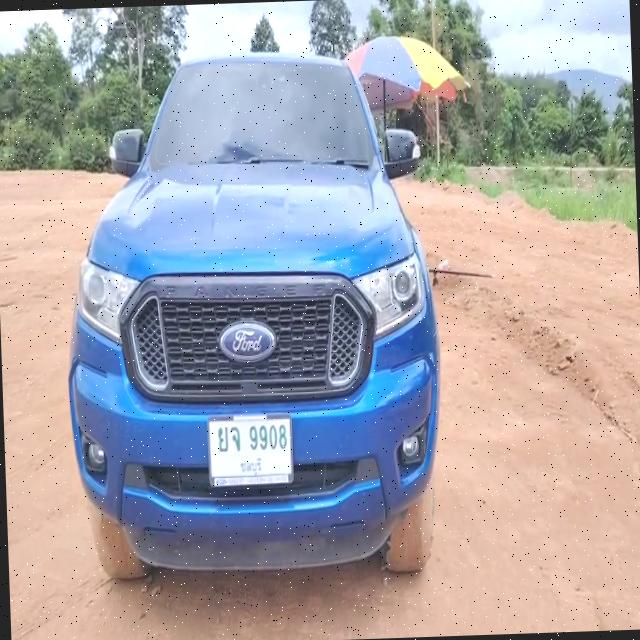Digit: (246, 422, 288, 452)
Licenseplate: (206, 414, 294, 486)
Provincename: (238, 456, 262, 476)
Thaichar: (217, 424, 240, 454)
